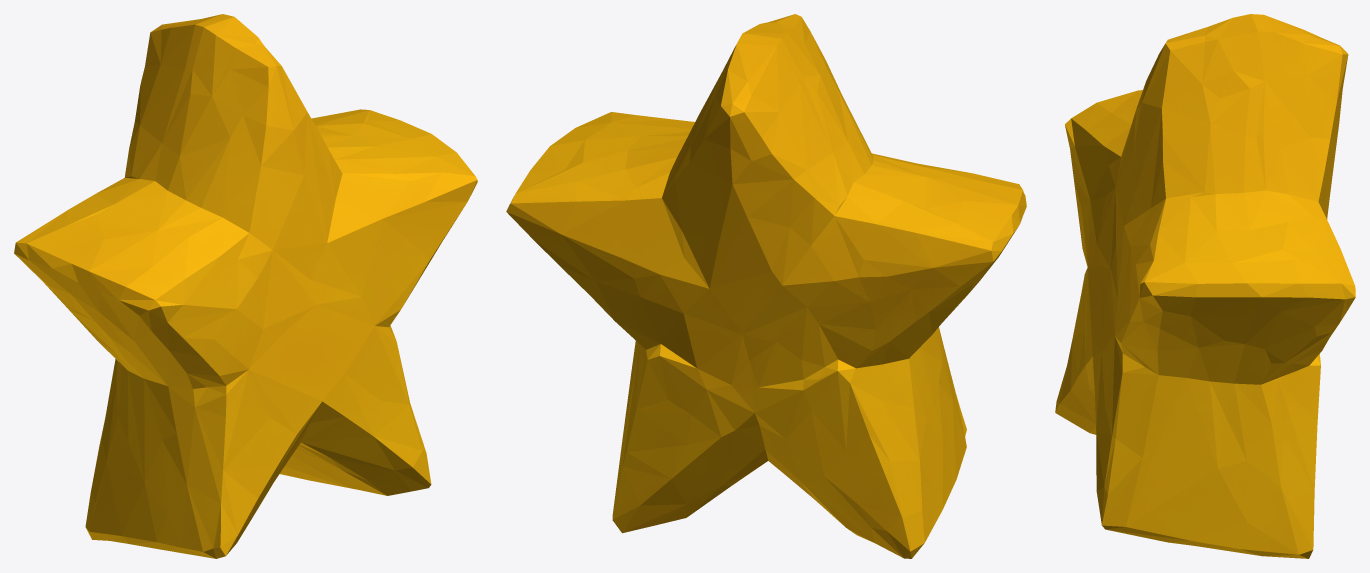
Rendered from star.fbx.
3 views of the same model, side by side, from view 1: azimuth 30°, elevation 25°; view 2: azimuth 150°, elevation 25°; view 3: azimuth 270°, elevation 25° (orthographic). The views are drawn at different scales.
Parts seen in each view (by area): view 1: Mesh_0; view 2: Mesh_0; view 3: Mesh_0.
Part boxes in pixels (x1,y1,x2,y2): Mesh_0: [14, 14, 477, 558]; Mesh_0: [506, 14, 1026, 558]; Mesh_0: [1055, 14, 1355, 558].
Size of the model in its own units: 0.9152 by 1 by 0.5626.
1 material, 1 textured.
